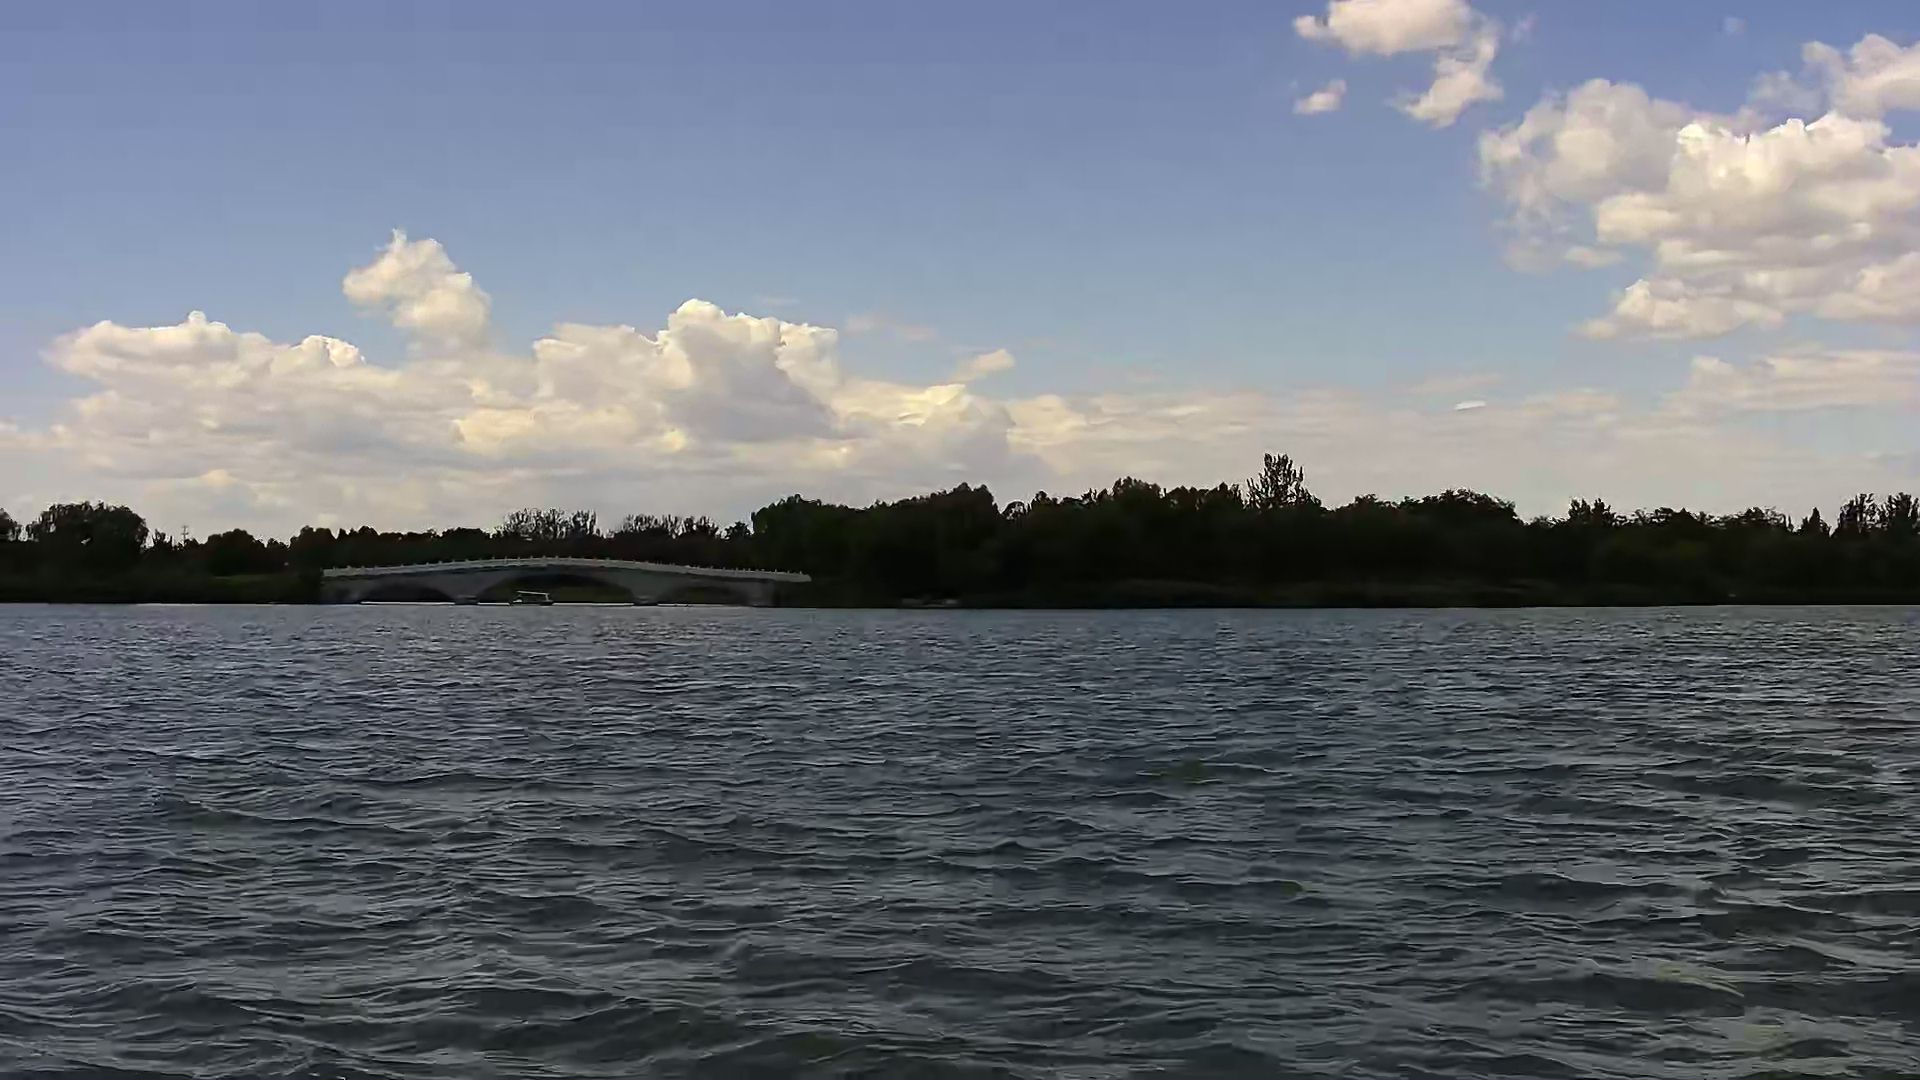boat: (502, 587, 563, 612)
bridge: (318, 553, 811, 613)
